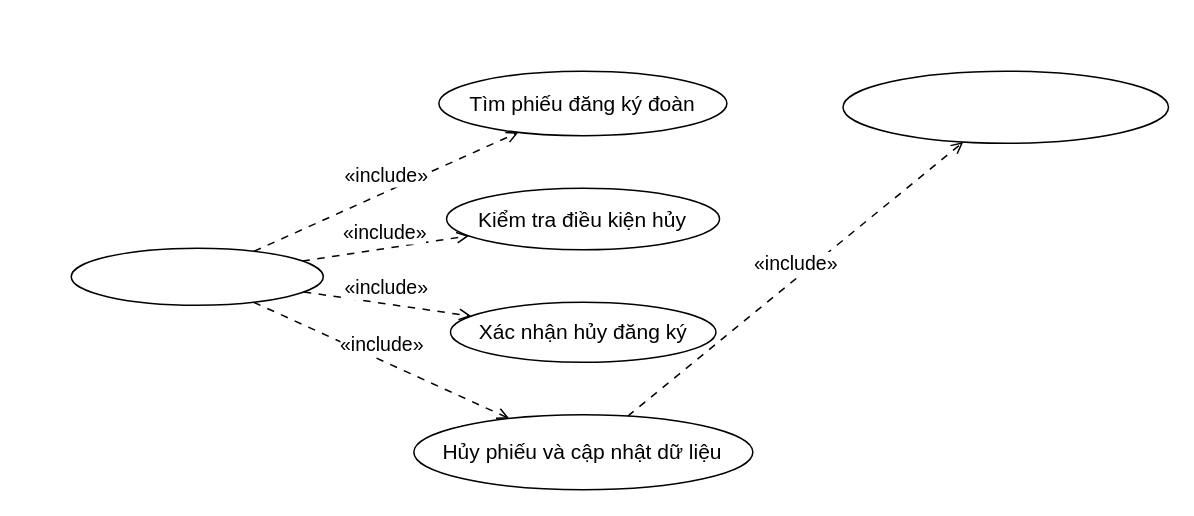
Some shapes in this 1194 by 516 pixel diagram are drawn without their labels. The shapes that lost their labels are listed below. From the top down, each one's centre as x and y in pixels, then its label:
At (x=1005, y=106): "Gỡ phân công HDV liên quan".
At (x=196, y=276): "HUY DANG KY DOAN".
